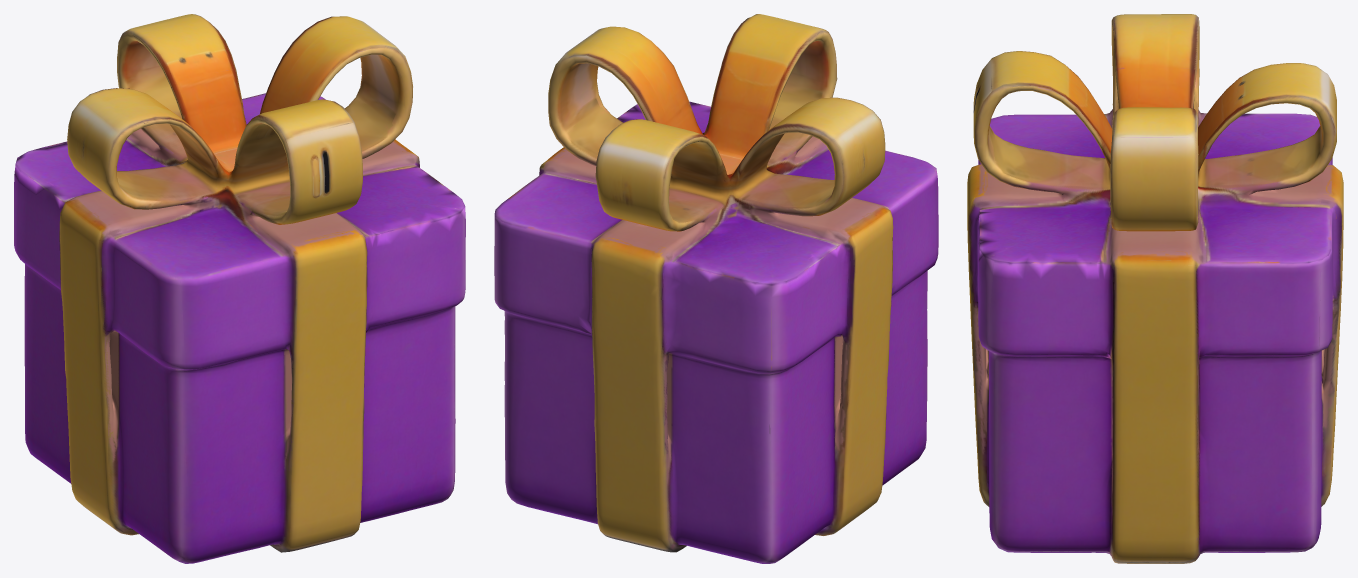
File: Meshy_AI_Stylized_low_poly_gif_0309173433_texture.obj
The picture shows the model from 3 angles, left to right: view 1: azimuth 30°, elevation 25°; view 2: azimuth 150°, elevation 25°; view 3: azimuth 270°, elevation 25°; orthographic projection. The views are drawn at different scales.
Visible parts, largest first — view 1: Meshy_AI_Stylized_low_poly_gif_0309173433_texture; view 2: Meshy_AI_Stylized_low_poly_gif_0309173433_texture; view 3: Meshy_AI_Stylized_low_poly_gif_0309173433_texture.
Part boxes in pixels (x1=…): Meshy_AI_Stylized_low_poly_gif_0309173433_texture: x1=14, y1=14, x2=465, y2=563; Meshy_AI_Stylized_low_poly_gif_0309173433_texture: x1=494, y1=14, x2=938, y2=563; Meshy_AI_Stylized_low_poly_gif_0309173433_texture: x1=967, y1=14, x2=1343, y2=563.
Size of the model in its own units: 1.56 by 2.01 by 1.55.
1 material, 1 textured.
